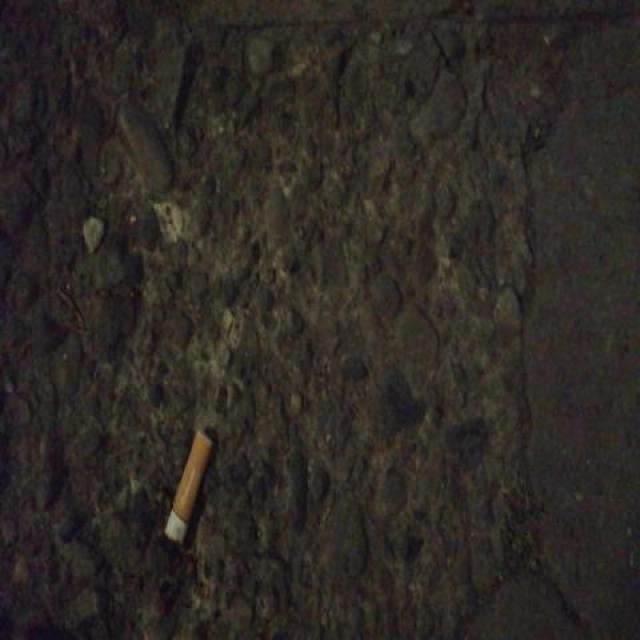non-organic waste: (160, 420, 215, 549)
